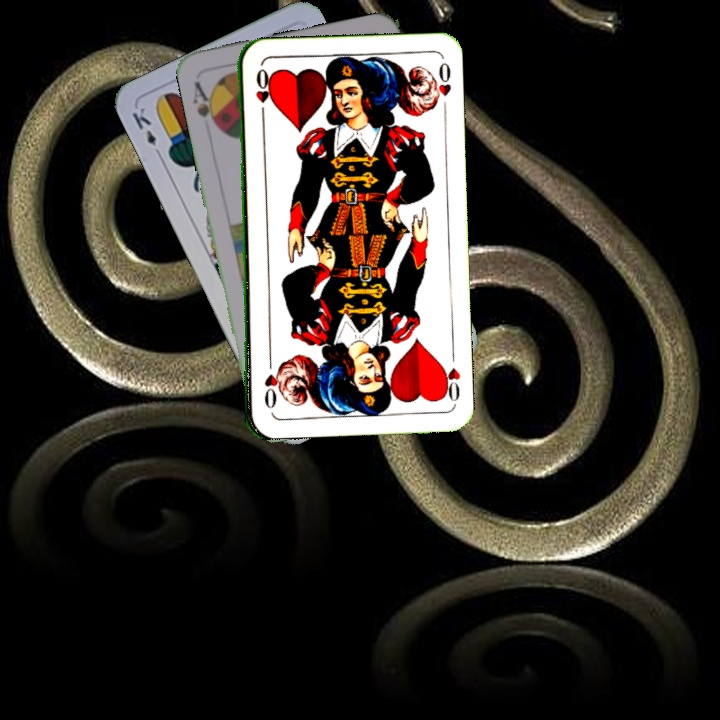EK: (127, 103, 165, 160)
HO: (437, 347, 463, 406), (251, 64, 269, 122)
SA: (189, 77, 222, 131)
